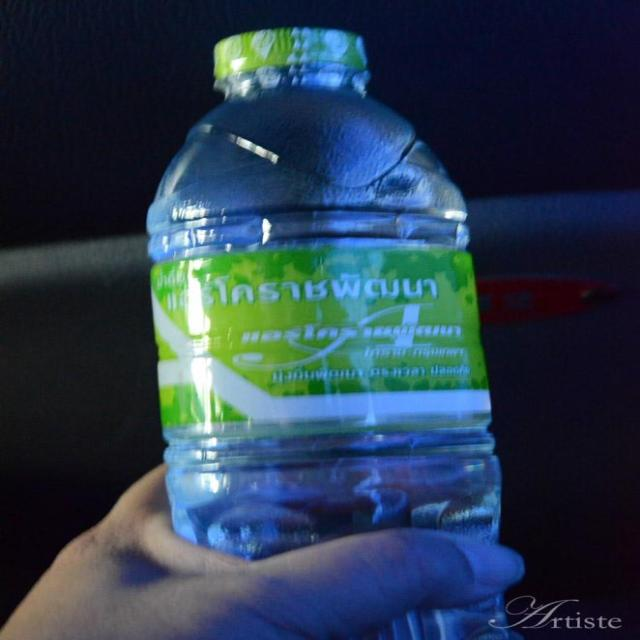bottle: (138, 16, 524, 638)
